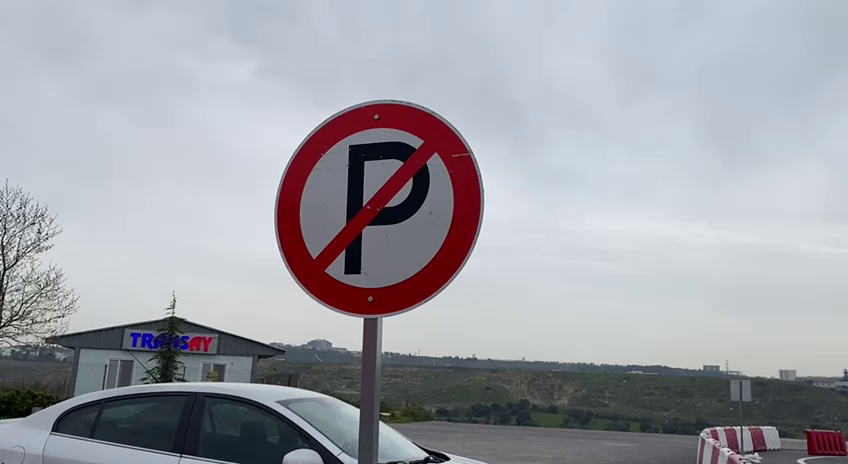noparking: (268, 93, 489, 322)
